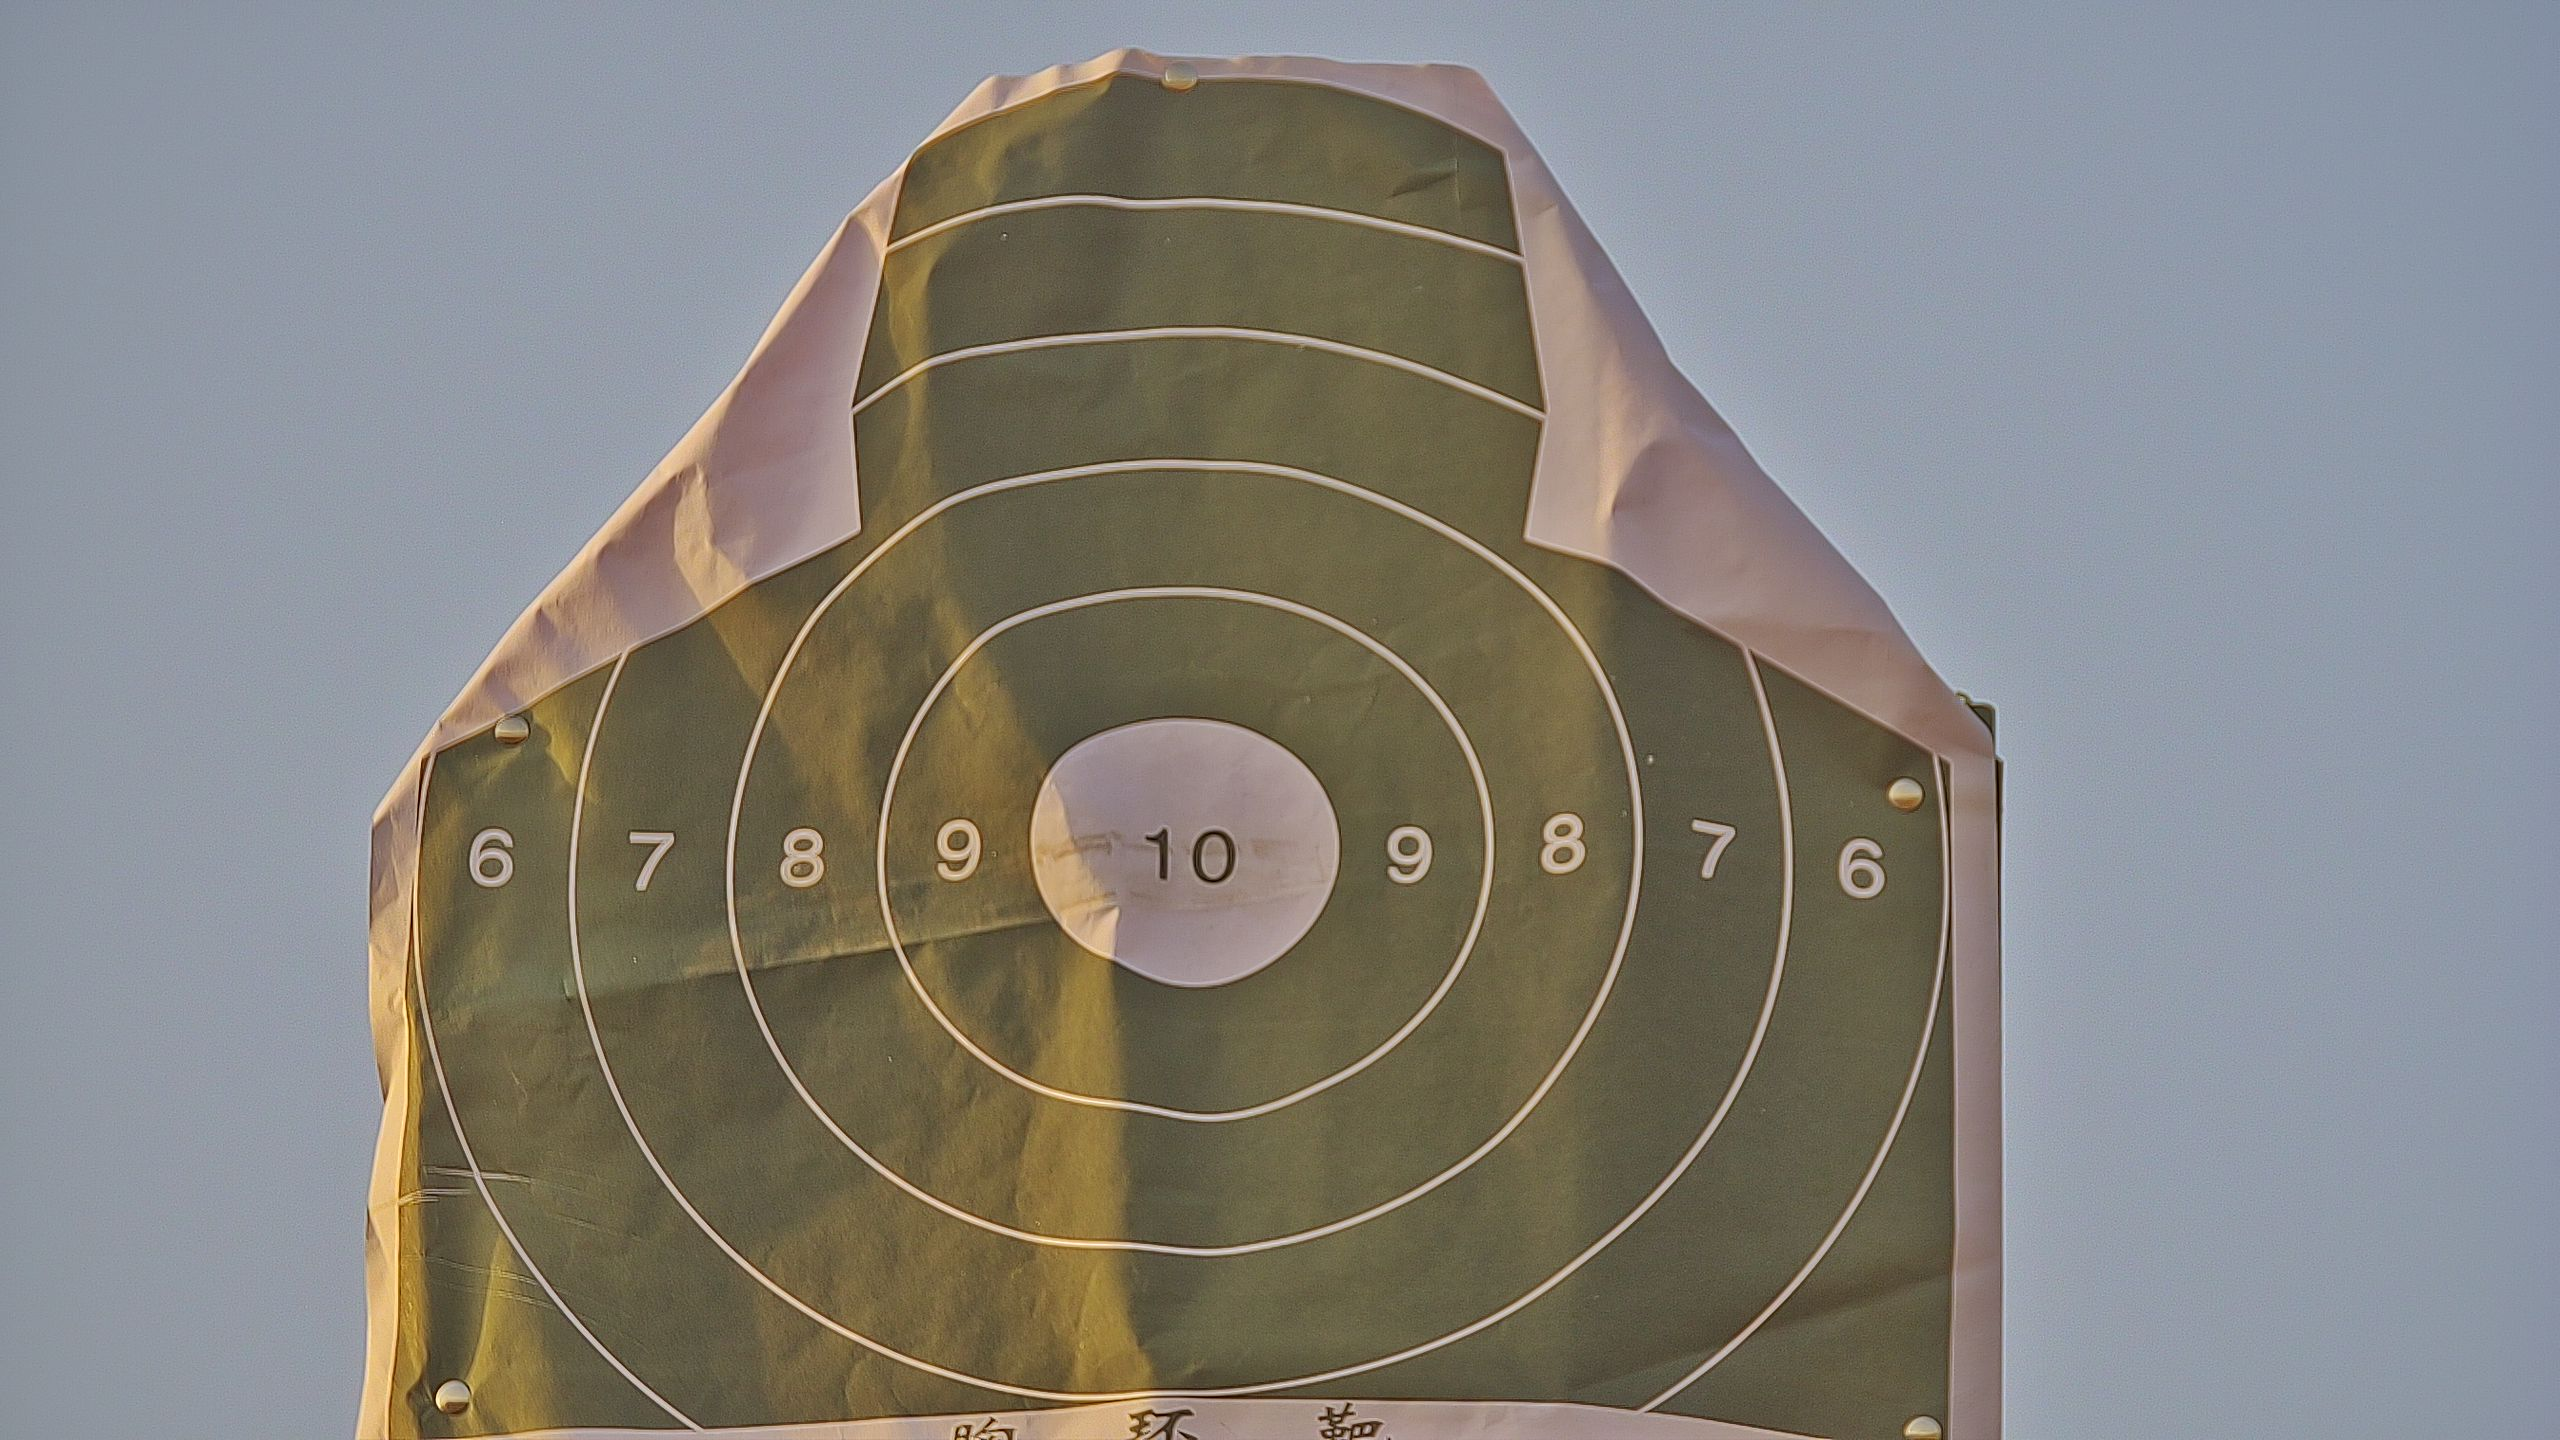kernel: (1176, 855, 1183, 862)
target: (390, 81, 1959, 1440)
ten: (1029, 719, 1343, 993)
